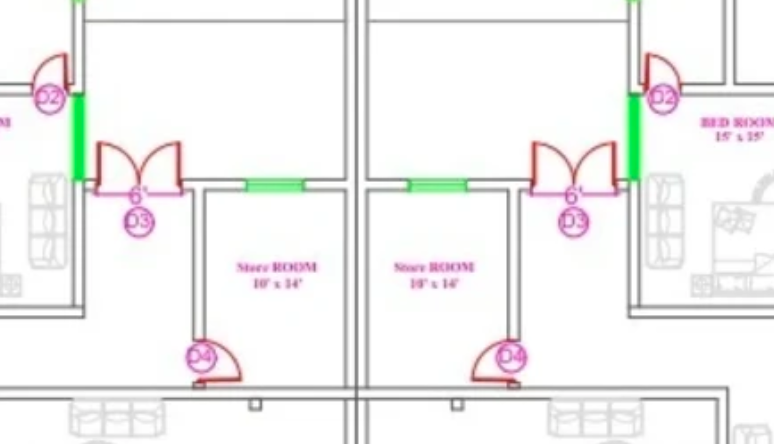door: (177, 333, 249, 388), (16, 45, 87, 100)
double door: (516, 120, 624, 210), (88, 132, 189, 208)
window: (236, 157, 320, 221), (399, 157, 478, 214)
